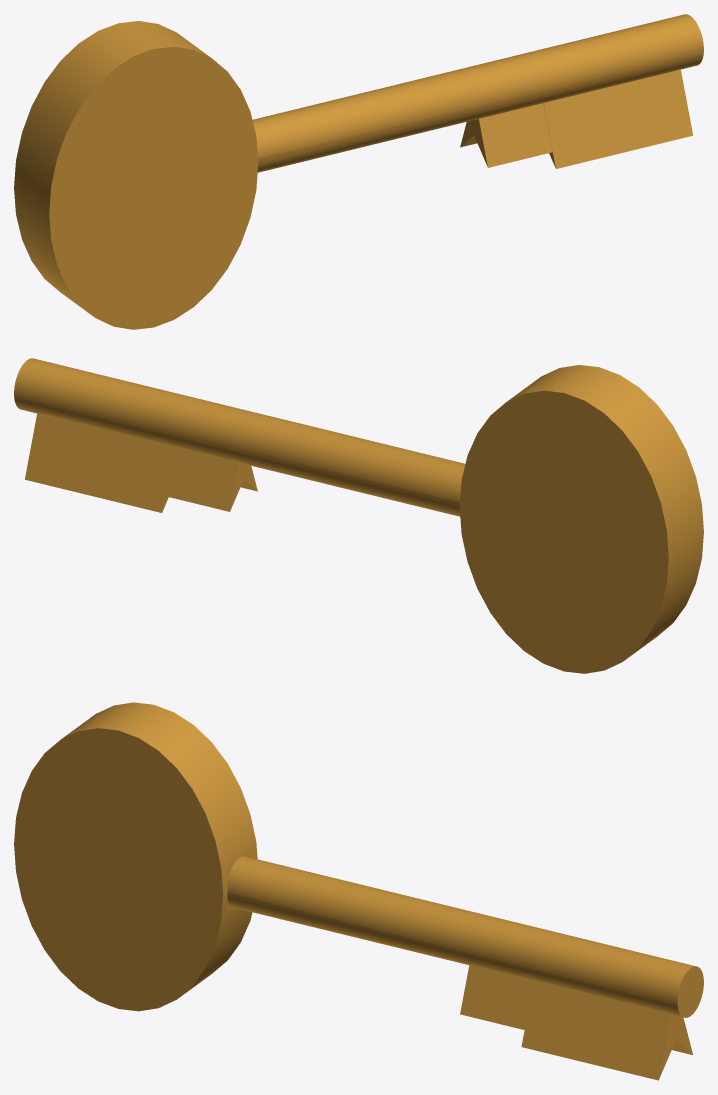
The model's file is chest_key.glb.
3 renders of one model, top to bottom at view 1: azimuth 30°, elevation 25°; view 2: azimuth 150°, elevation 25°; view 3: azimuth 330°, elevation 25°, orthographic.
Parts seen in each view (by area): view 1: chest_key; view 2: chest_key; view 3: chest_key.
Boxes of the visible parts, bbox=[...] form: chest_key: bbox=[14, 14, 703, 329]; chest_key: bbox=[14, 358, 703, 673]; chest_key: bbox=[14, 702, 703, 1080].
Bounding box in the file's own units: 0.4059 × 0.1639 × 0.0375.
Materials: 1 (1 with a texture image).
